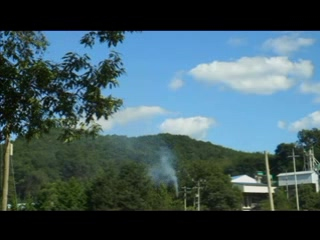smoke: (147, 148, 183, 198)
